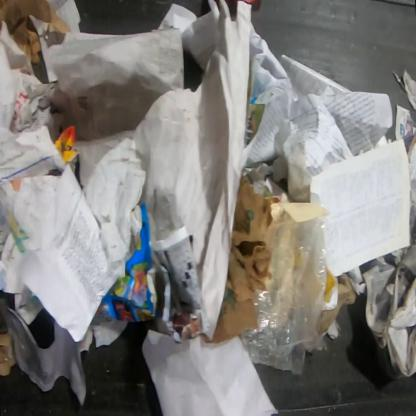cardboard: (212, 177, 273, 344), (319, 273, 357, 336), (0, 301, 15, 376)
rigid_plastic: (238, 0, 258, 3)
soft_plastic: (240, 215, 333, 376), (316, 202, 328, 212)
